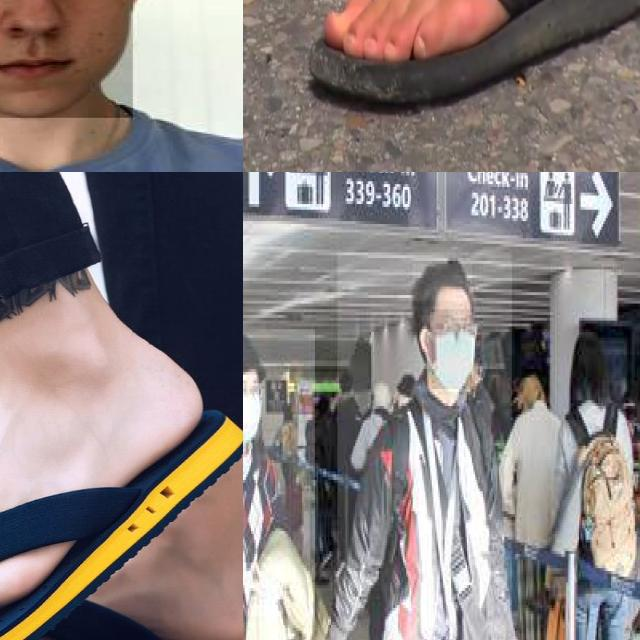Sandals: (0, 314, 243, 640), (243, 0, 640, 125)
face_mask: (432, 309, 473, 392), (243, 374, 260, 443)
face_nomask: (0, 0, 132, 117)
hand_noglove: (246, 562, 285, 620)
head_nohelmet: (412, 264, 473, 304), (243, 332, 272, 377)
person: (337, 252, 513, 640), (0, 0, 243, 172), (243, 329, 316, 640)
